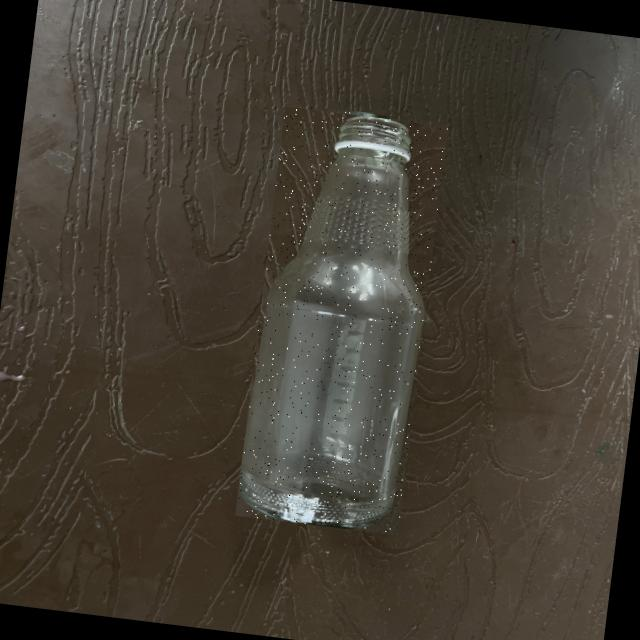Glass_Bottle: (239, 117, 423, 527)
